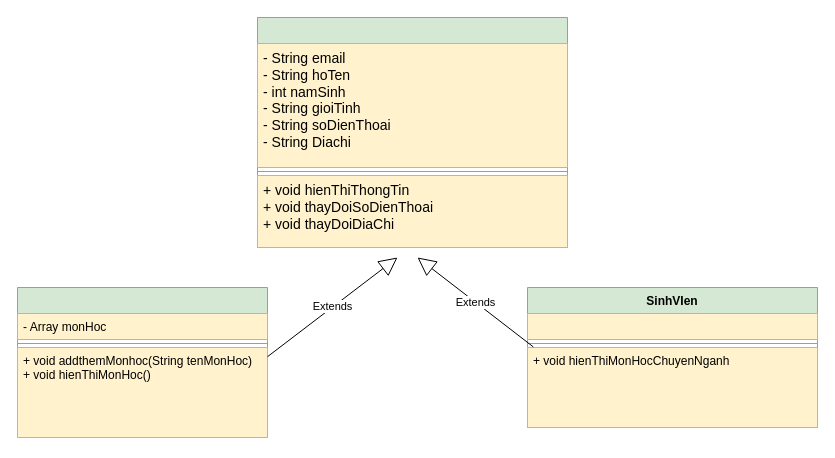
Some shapes in this 835 by 458 pixel diagram are drawn without their labels. Each missing label, with the box of its shape:
- String chuyenNganh: (526, 312, 818, 340)
Giangvien: (16, 286, 268, 438)
Person: (256, 16, 568, 248)
